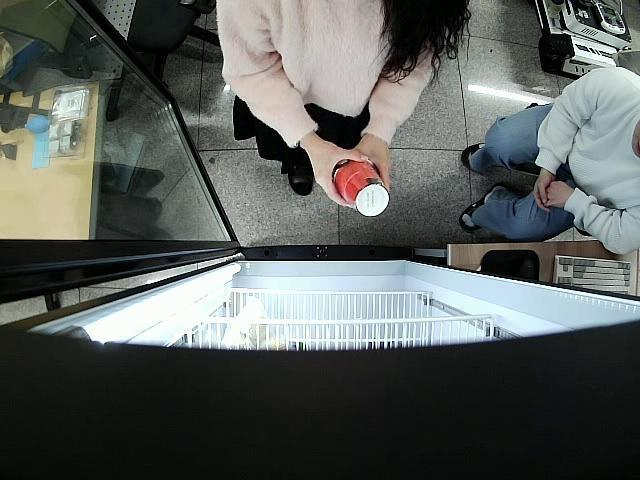02_shinRamen_S: (334, 159, 391, 218)
